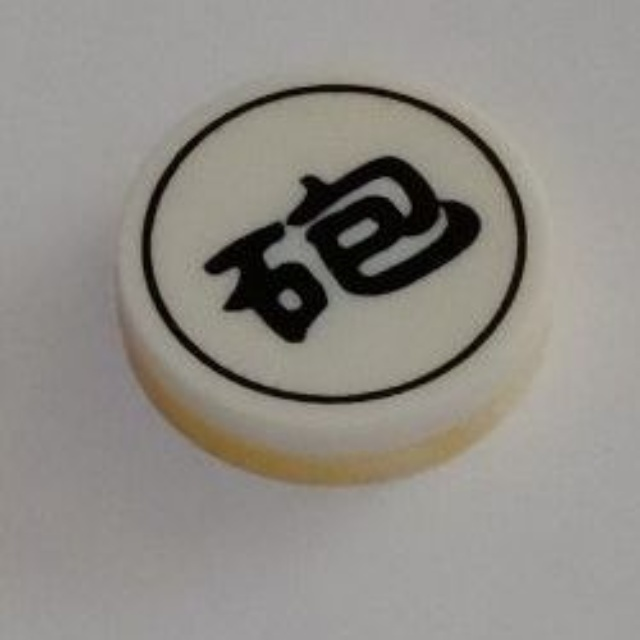black_phao: (112, 61, 557, 486)
